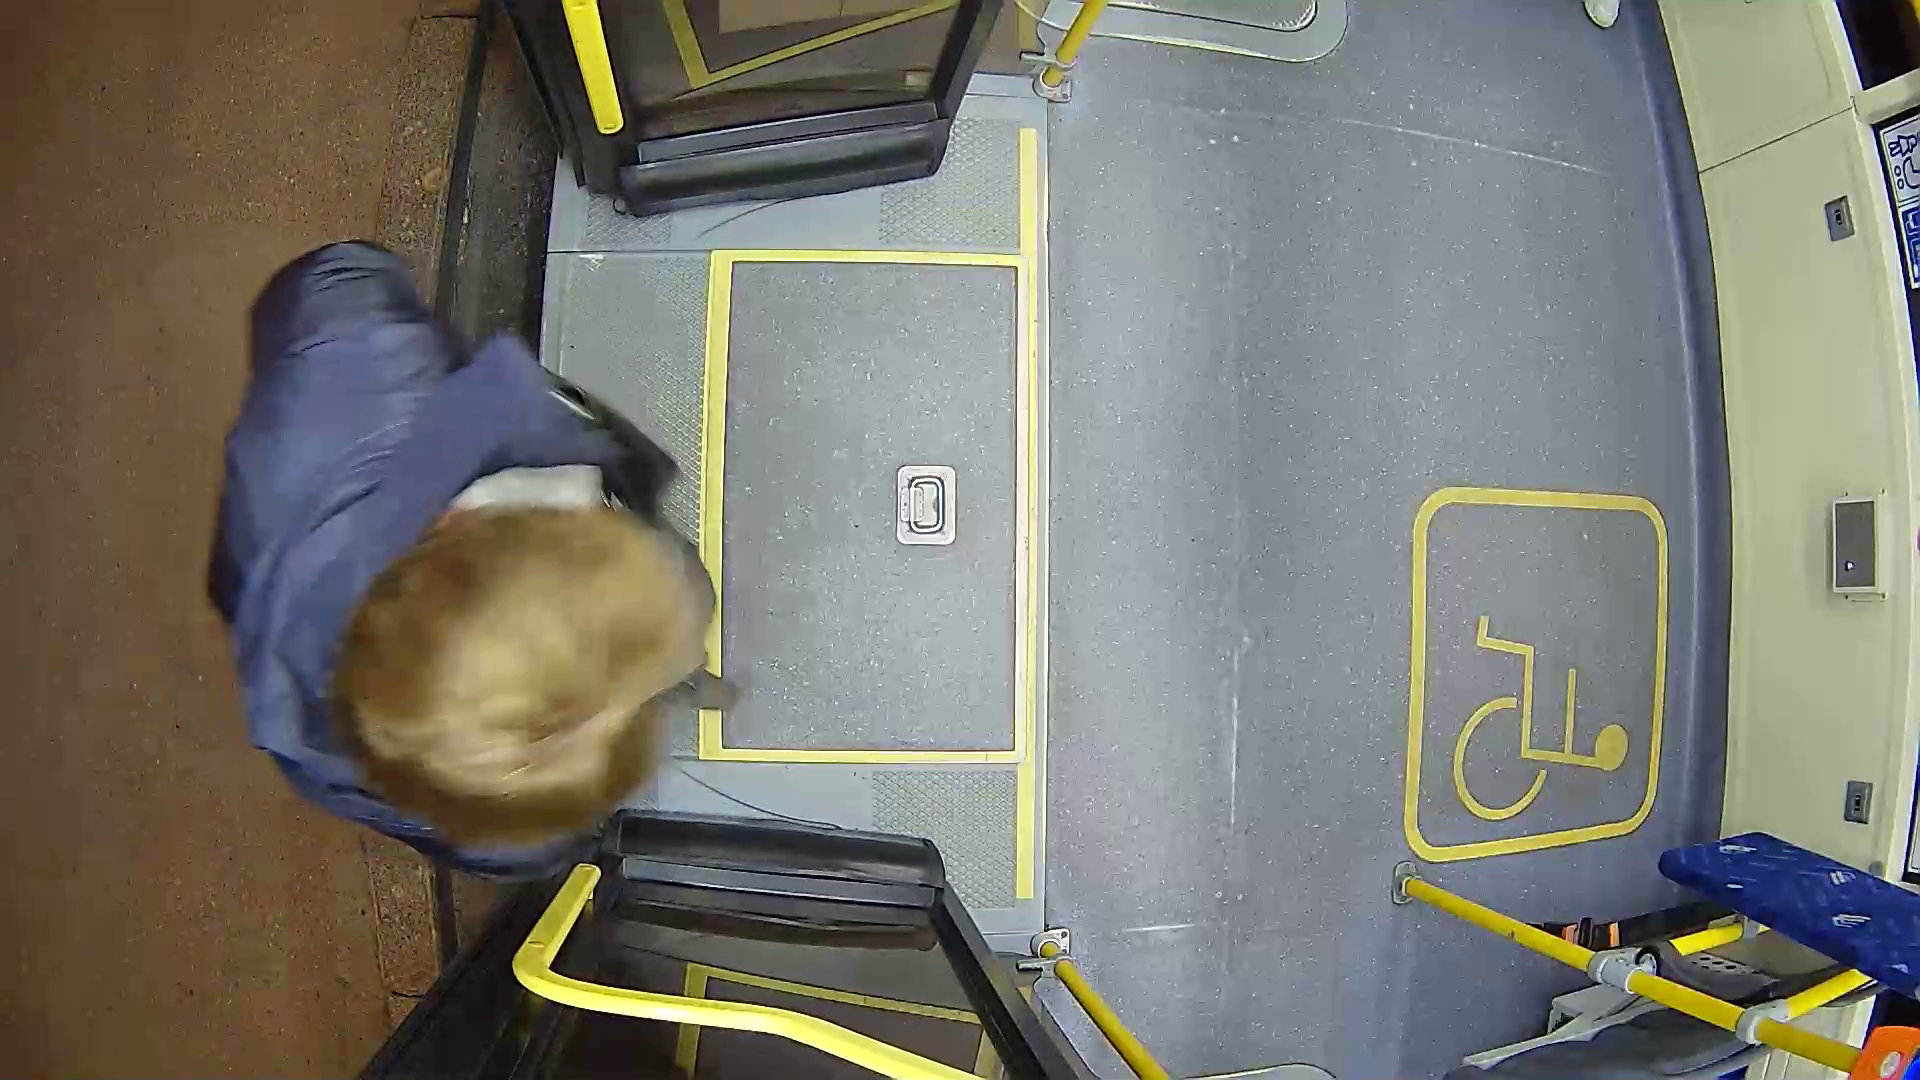person: (132, 246, 787, 869)
